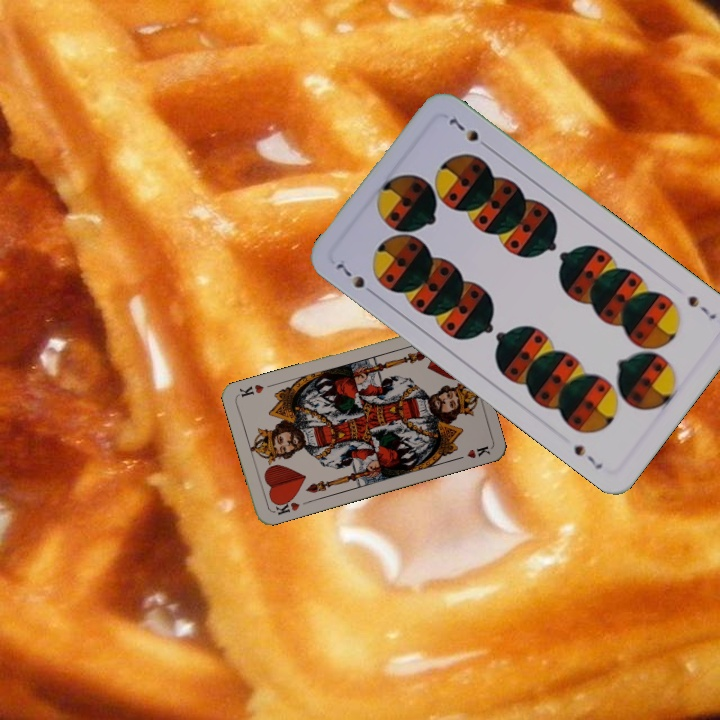HK: (270, 494, 302, 517)
S7: (332, 256, 380, 300), (684, 291, 719, 322)
